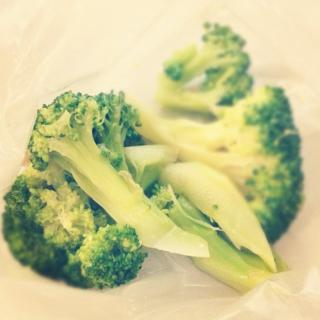Broccoli: (0, 21, 304, 292)
